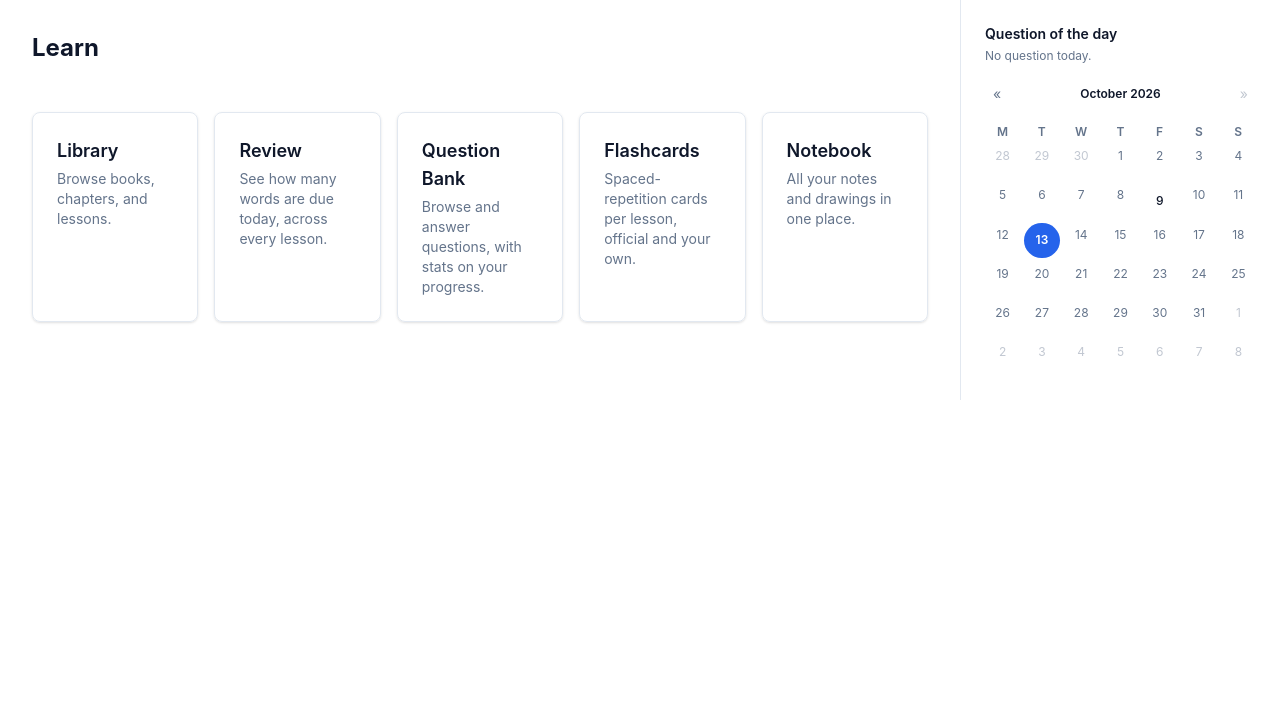
it: LearnPage question of the day › a past day that was not answered shows the question with no way to answer
Click the button named "Friday, October 9, 2026: not answered" at (1160,201), box x1=1142 y1=183 x2=1177 y2=219
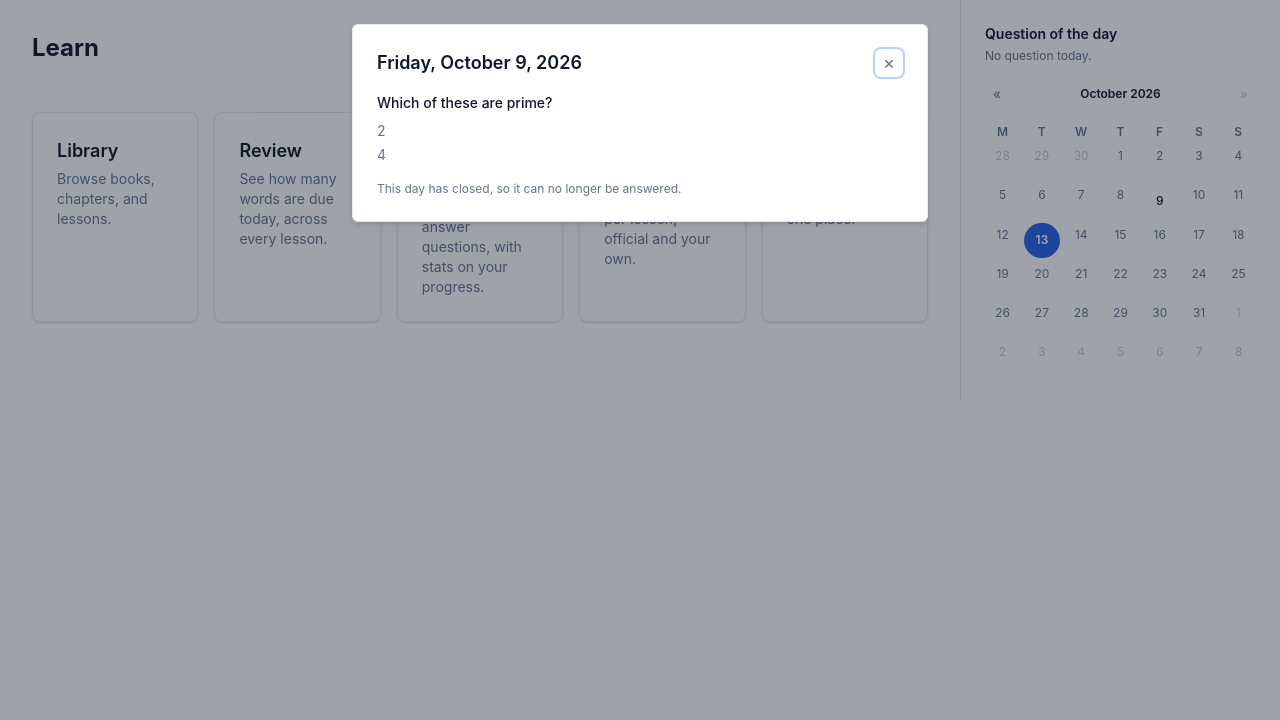
Now the text "Which of these are prime?" is shown, box x1=377 y1=94 x2=552 y2=111
Now the text "This day has closed, so it can no longer be answered." is shown, box x1=377 y1=181 x2=682 y2=196
